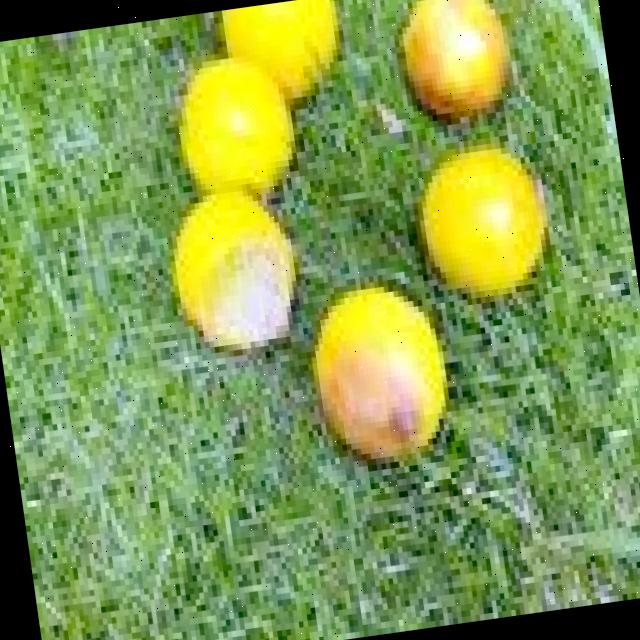Bad_Lime-0-1-day: (311, 286, 450, 466), (173, 195, 297, 353), (398, 0, 514, 126)
Good_Lime-10-21-days: (177, 0, 345, 198), (419, 145, 550, 304)
